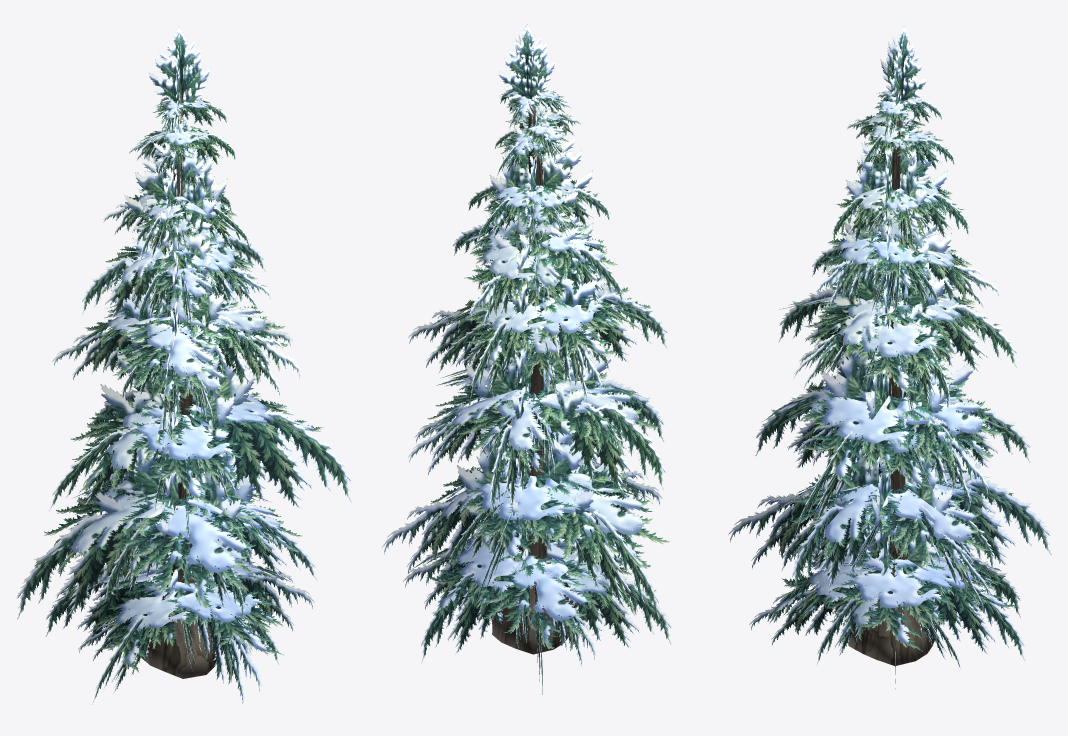
Rendered from tree_pine_snow_young.glb.
The picture shows the model from 3 angles, left to right: view 1: azimuth 30°, elevation 25°; view 2: azimuth 150°, elevation 25°; view 3: azimuth 270°, elevation 25°; orthographic projection. The views are drawn at different scales.
Parts seen in each view (by area): view 1: tree_pine_snow_young; view 2: tree_pine_snow_young; view 3: tree_pine_snow_young.
Boxes of the visible parts, left/top/right/bottom form: tree_pine_snow_young: left=17, top=26, right=351, bottom=704; tree_pine_snow_young: left=382, top=24, right=671, bottom=694; tree_pine_snow_young: left=728, top=26, right=1051, bottom=689.
Size of the model in its own units: 6.33 by 13.93 by 6.45.
Materials: 2 (2 with a texture image).
